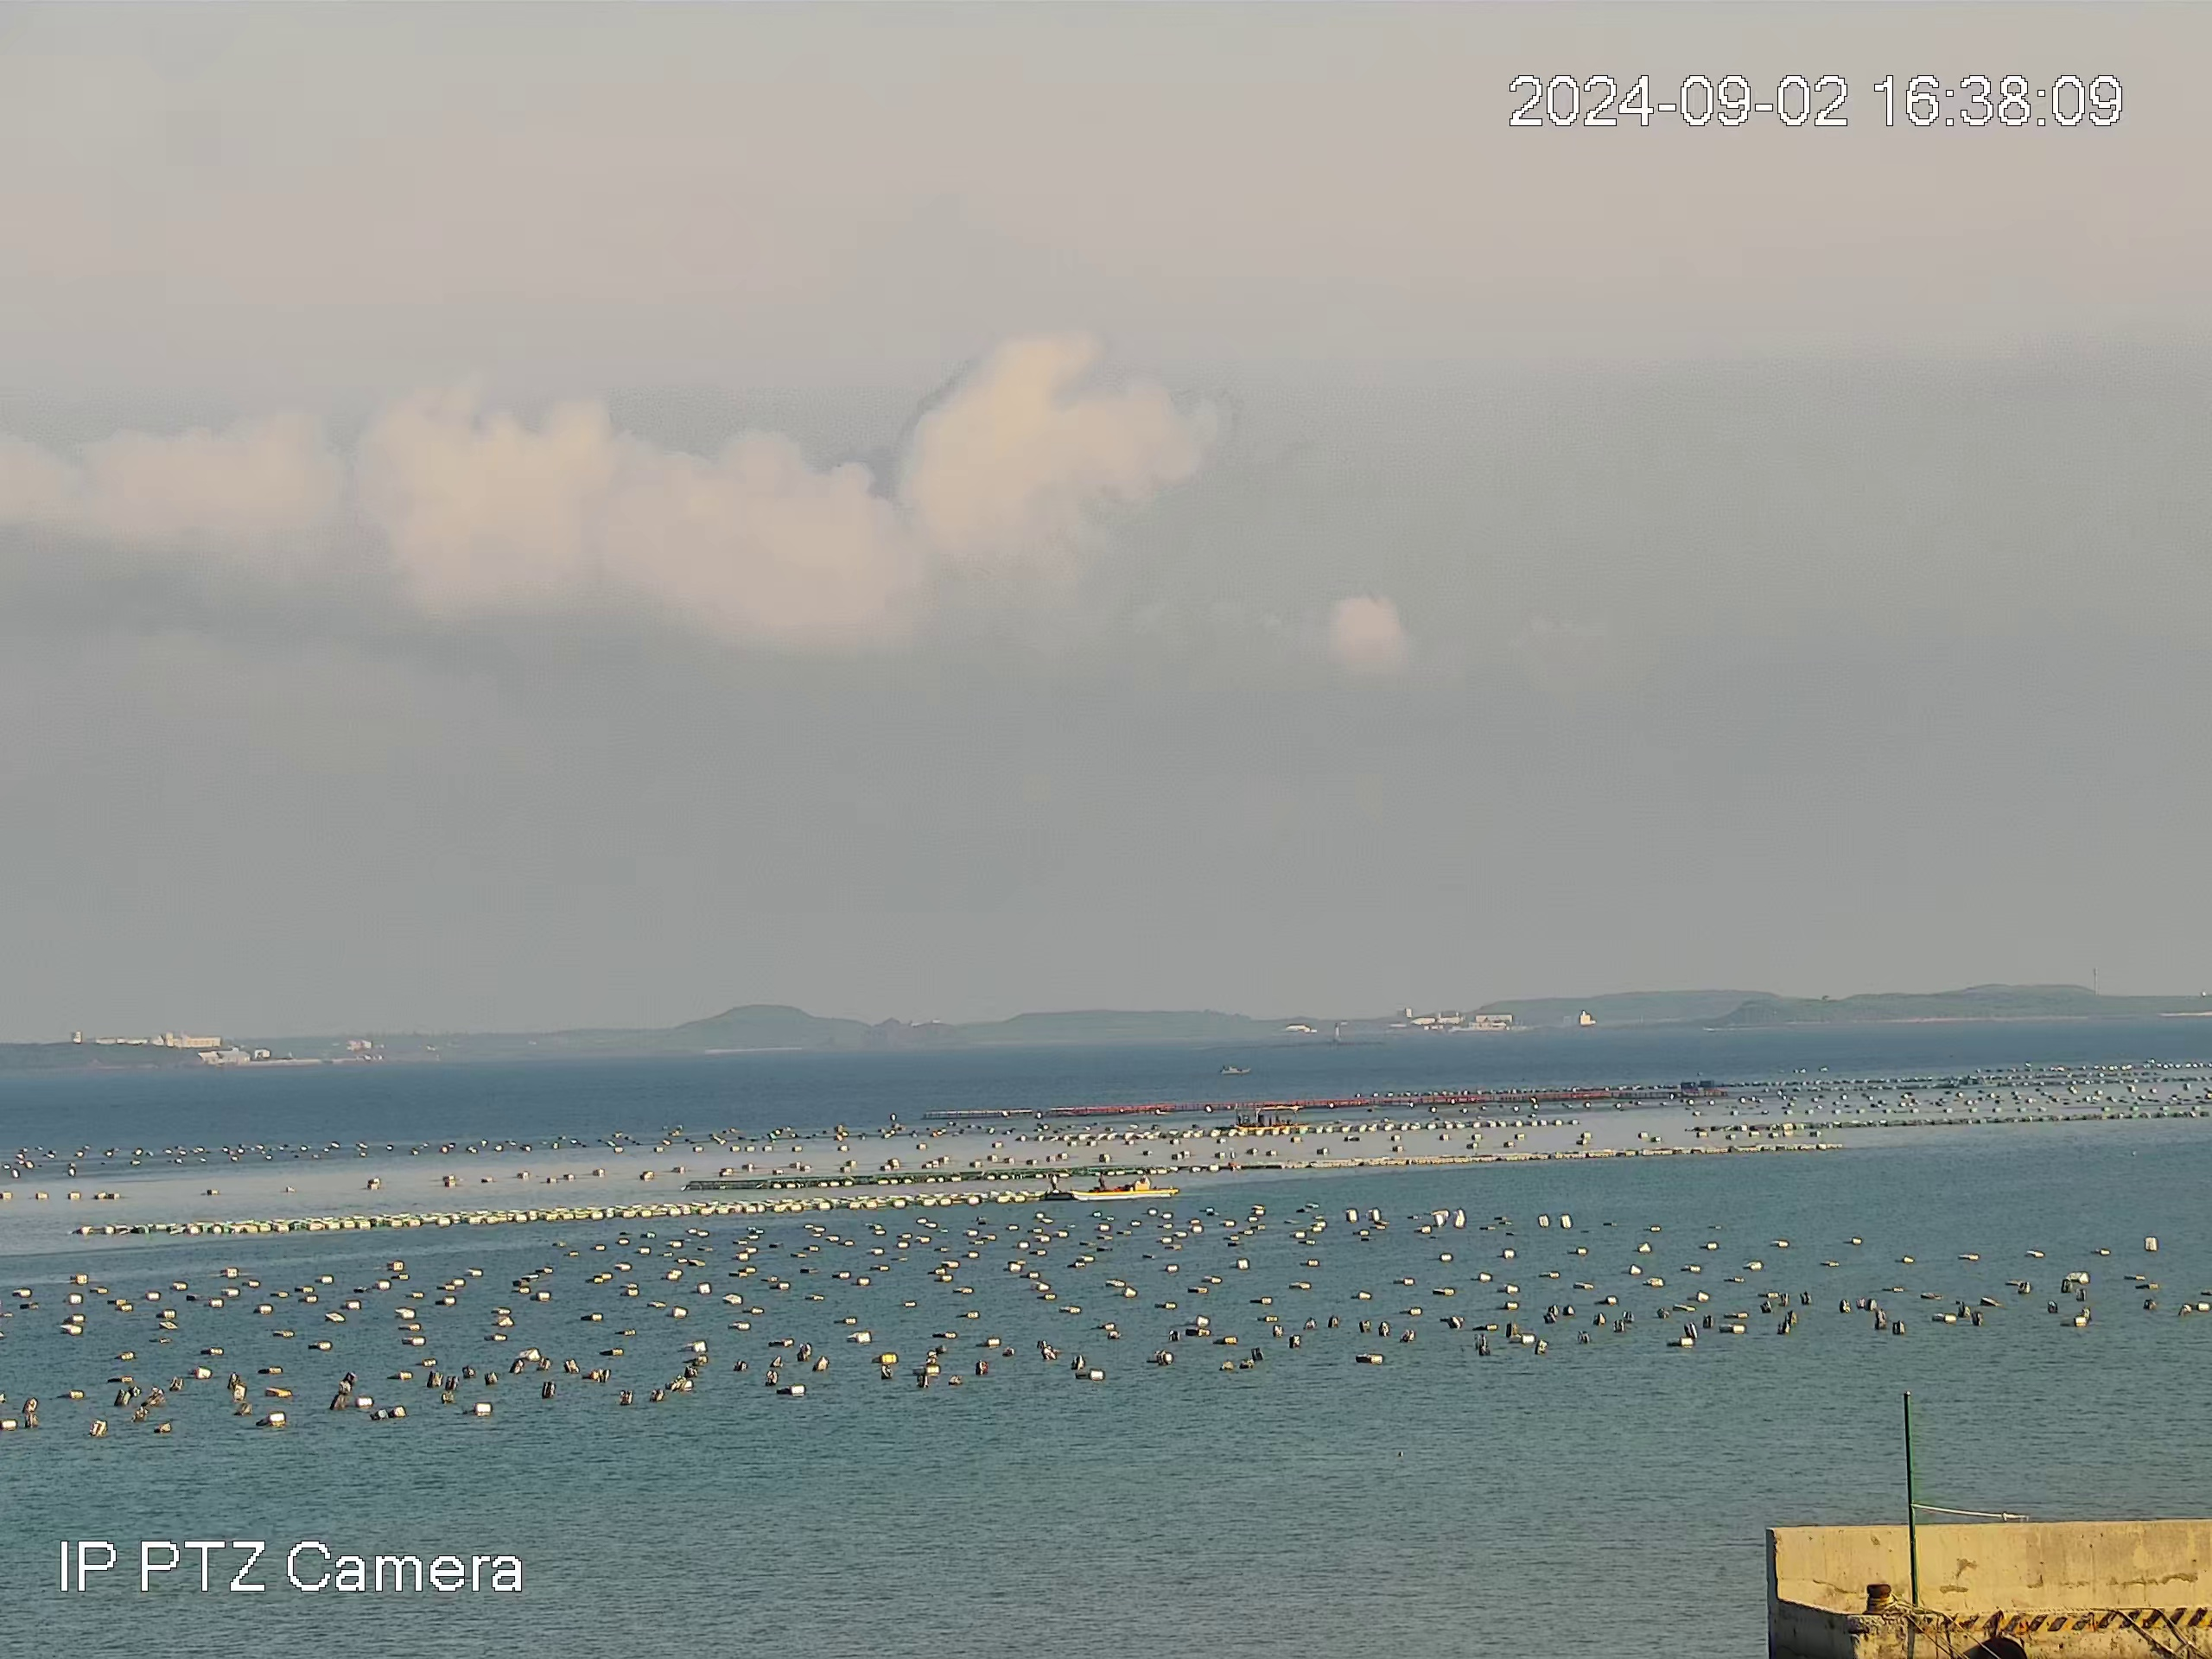boat: (1038, 1171, 1181, 1202), (1230, 1103, 1310, 1129), (1219, 1063, 1252, 1075)
